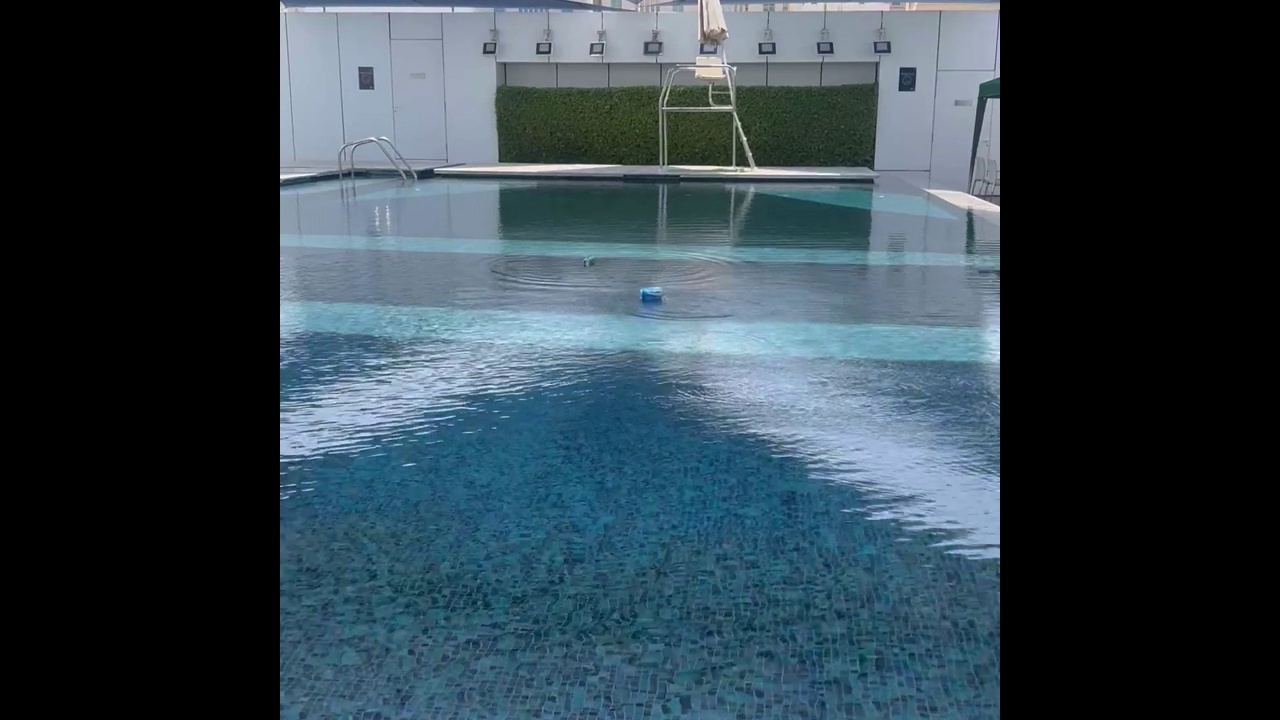debris: (637, 284, 665, 304), (578, 252, 596, 271)
